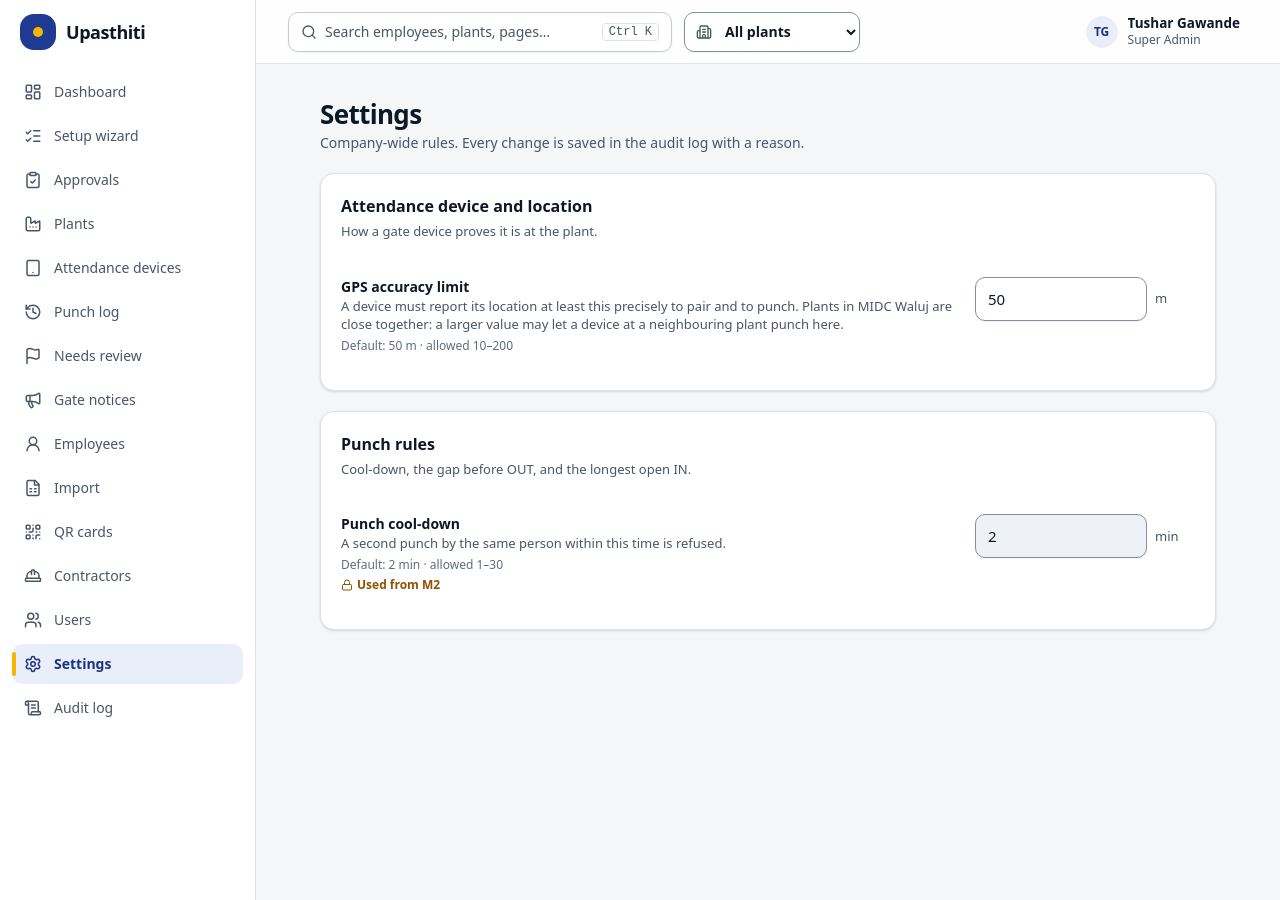
Test: settings screen (spec AC-12) › refuses a value outside the range and keeps Save off
Replace the text in the field labelled "GPS accuracy limit" with "5" at {"x": 1061, "y": 299}, box left=975, top=277, right=1147, bottom=321
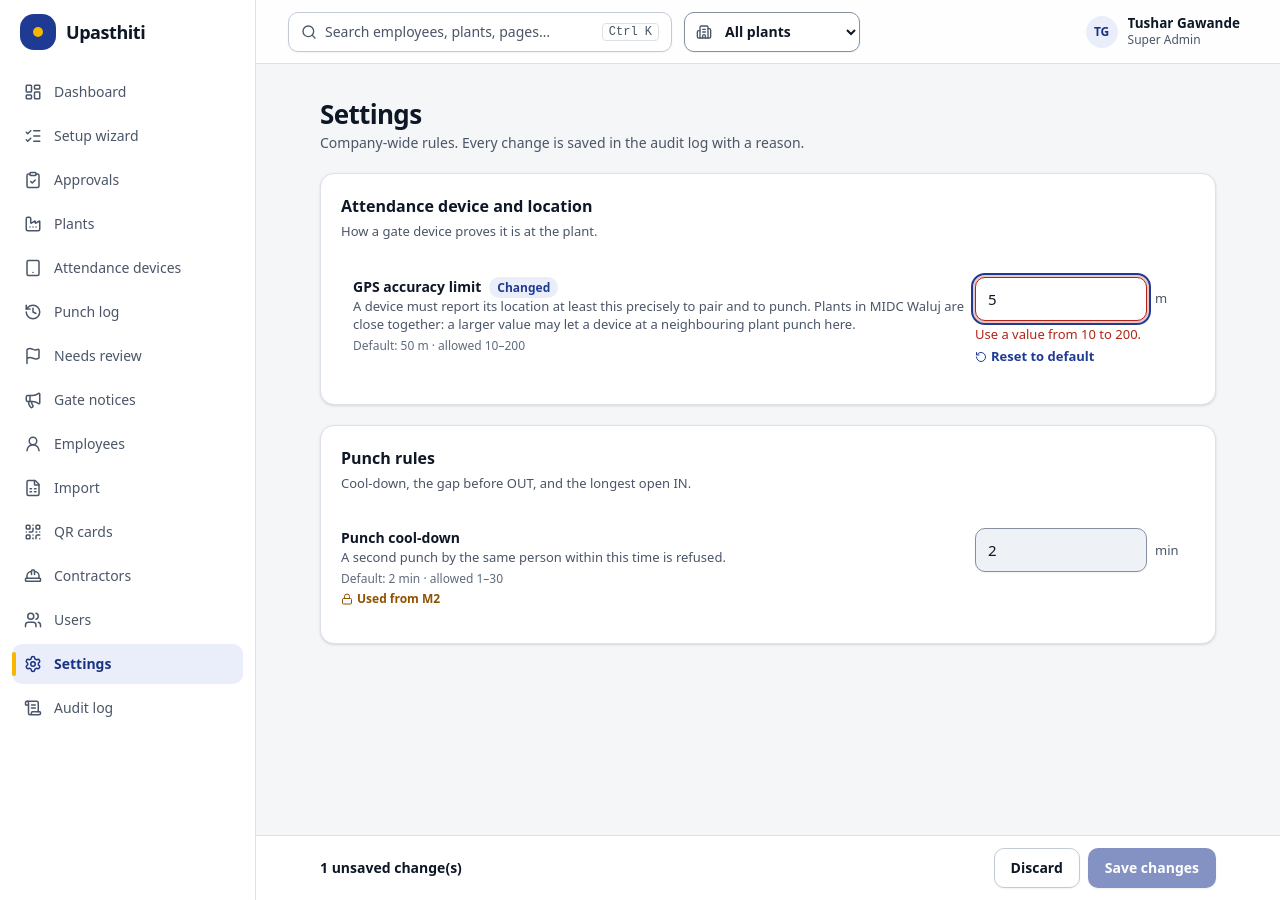
Now the button "Save changes" is disabled, box left=1088, top=848, right=1216, bottom=888
Now the text "Use a value from 10 to 200." is shown, box left=975, top=325, right=1141, bottom=343
